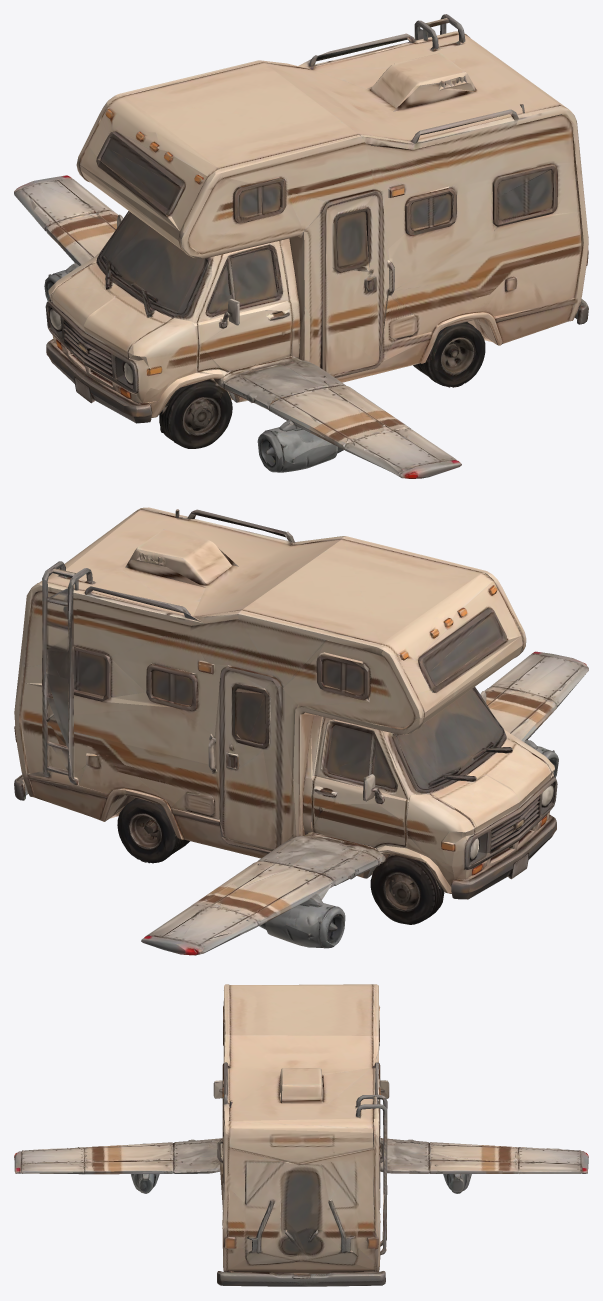
File: rv-wings.glb
3 views of the same model, one above another, from view 1: azimuth 30°, elevation 25°; view 2: azimuth 150°, elevation 25°; view 3: azimuth 270°, elevation 25° (orthographic). The views are drawn at different scales.
Size of the model in its own units: 1.27 by 0.7373 by 1.9.
Materials: 1 (1 with a texture image).
